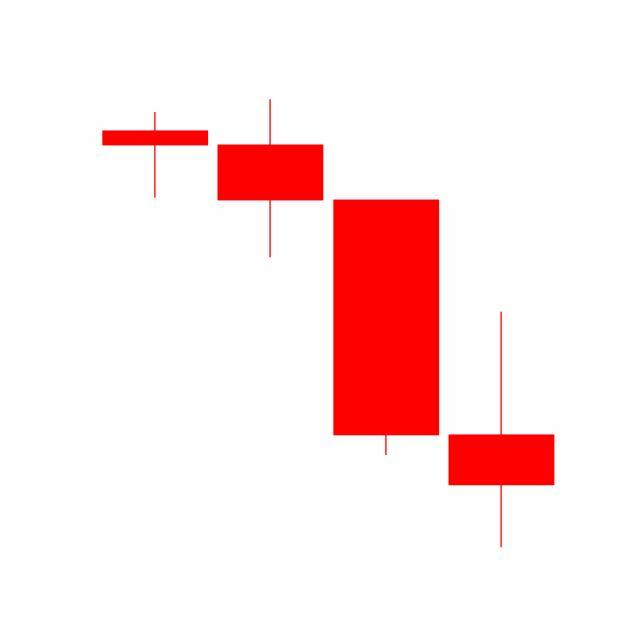Spinning Top: (444, 309, 560, 551)
